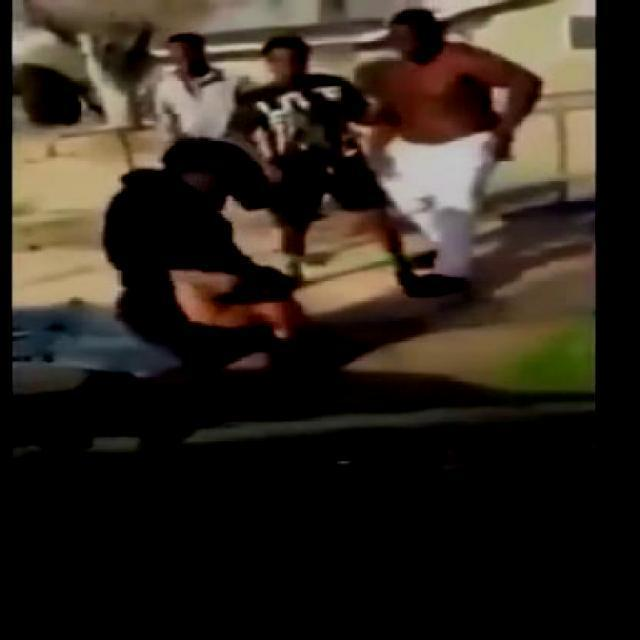fight: (16, 136, 310, 398)
